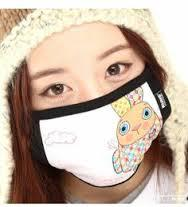OK: (28, 42, 163, 184)
